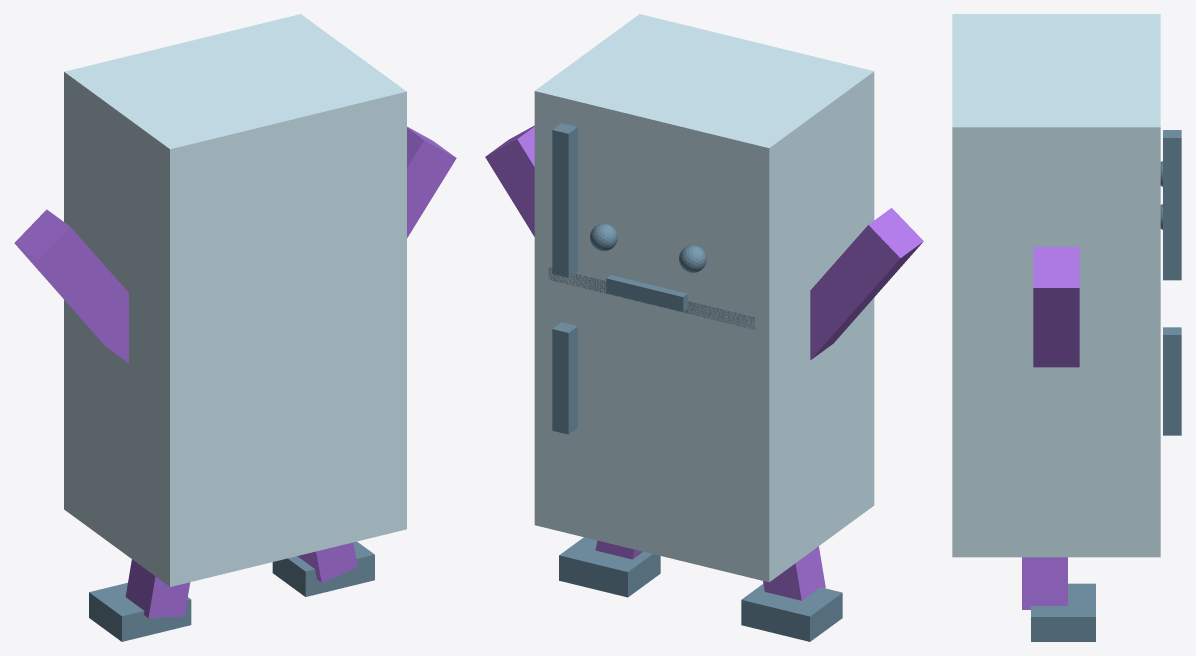
File: treasure_fridge.glb
3 views of the same model, side by side, from view 1: azimuth 30°, elevation 25°; view 2: azimuth 150°, elevation 25°; view 3: azimuth 270°, elevation 25° (orthographic).
Parts seen in each view (by area): view 1: FridgeBody, Arm0, Shoe0, Arm1, Shoe1, Leg0, Leg1; view 2: FridgeBody, Arm0, Shoe0, HandleTop, Shoe1, Arm1, HandleBottom, Leg0, Smile, Divider, Eye0.22, Eye-0.22; view 3: FridgeBody, Arm1, Shoe1, HandleTop, Leg1, HandleBottom.
Boxes of the visible parts, bbox=[...] form: FridgeBody: bbox=[64, 14, 406, 586]; Arm0: bbox=[14, 209, 128, 363]; Shoe0: bbox=[89, 582, 191, 641]; Arm1: bbox=[407, 126, 456, 237]; Shoe1: bbox=[272, 541, 374, 596]; Leg0: bbox=[125, 559, 190, 618]; Leg1: bbox=[297, 542, 357, 582]; FridgeBody: bbox=[534, 14, 874, 582]; Arm0: bbox=[810, 208, 923, 360]; Shoe0: bbox=[741, 584, 842, 641]; HandleTop: bbox=[552, 123, 577, 277]; Shoe1: bbox=[559, 537, 660, 597]; Arm1: bbox=[485, 125, 534, 236]; HandleBottom: bbox=[552, 322, 577, 434]; Leg0: bbox=[763, 546, 825, 600]; Smile: bbox=[606, 275, 687, 311]; Divider: bbox=[548, 267, 754, 329]; Eye0.22: bbox=[590, 223, 617, 251]; Eye-0.22: bbox=[679, 245, 706, 272]; FridgeBody: bbox=[952, 14, 1160, 557]; Arm1: bbox=[1033, 247, 1079, 367]; Shoe1: bbox=[1031, 583, 1095, 641]; HandleTop: bbox=[1163, 130, 1181, 280]; Leg1: bbox=[1022, 557, 1067, 609]; HandleBottom: bbox=[1163, 327, 1181, 435].
Bounding box in the file's own units: 2.05 × 2.44 × 0.99.
